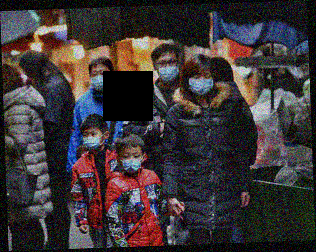with_mask: (187, 71, 216, 98), (156, 57, 180, 84), (90, 68, 113, 95), (120, 149, 143, 174), (81, 129, 101, 150)
